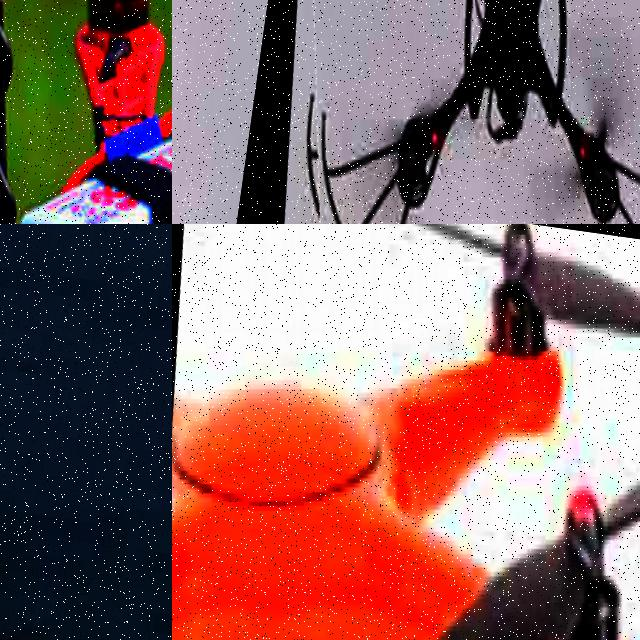0: (229, 0, 640, 224)
drone: (172, 224, 640, 640), (0, 0, 172, 224)
